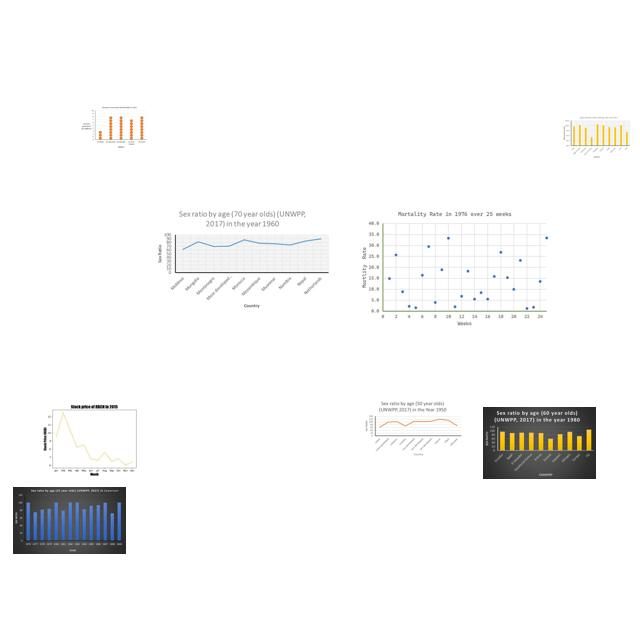Graph: (359, 210, 553, 327), (153, 207, 332, 310), (39, 398, 147, 479), (483, 407, 596, 479), (13, 487, 126, 554), (363, 400, 463, 457), (561, 116, 631, 158), (81, 106, 148, 148)
